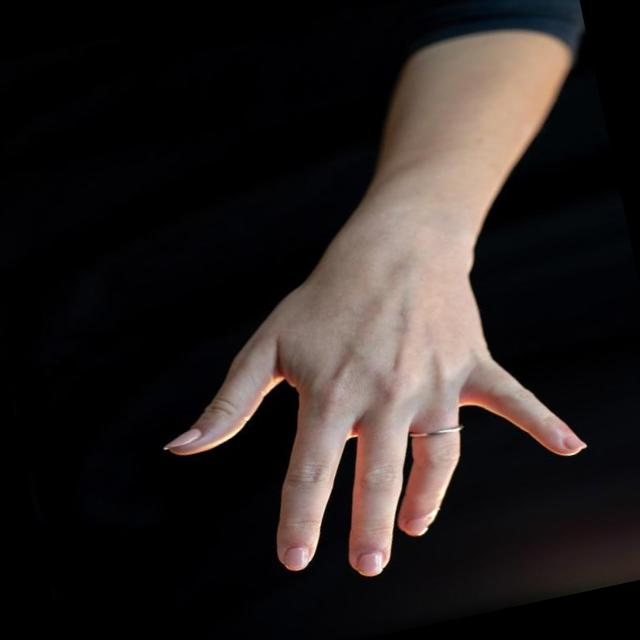Nail: (163, 428, 201, 449), (356, 550, 382, 575), (281, 546, 308, 570), (562, 434, 586, 450), (405, 518, 428, 532)
